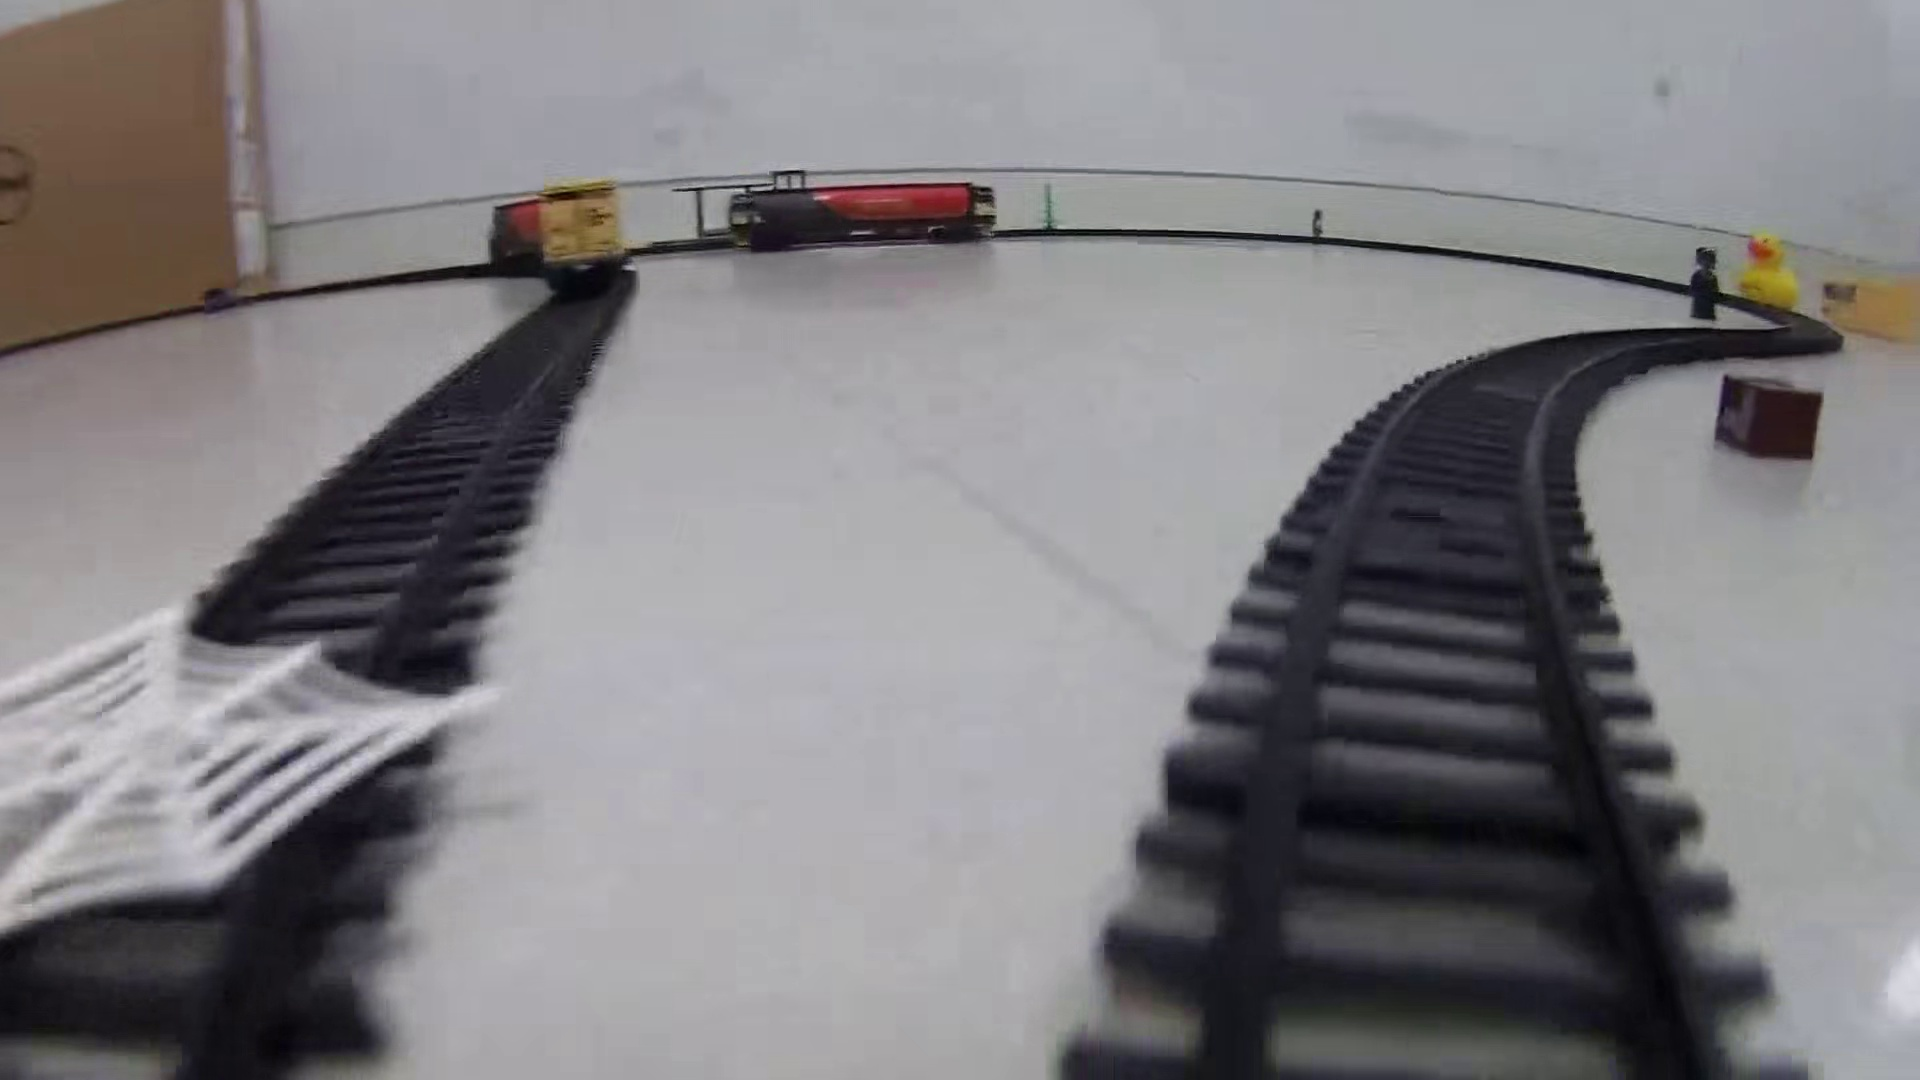box: (1709, 374, 1827, 463)
people: (1687, 242, 1723, 323), (1307, 206, 1327, 241)
tree: (1033, 179, 1066, 235)
web: (1, 589, 508, 940)
